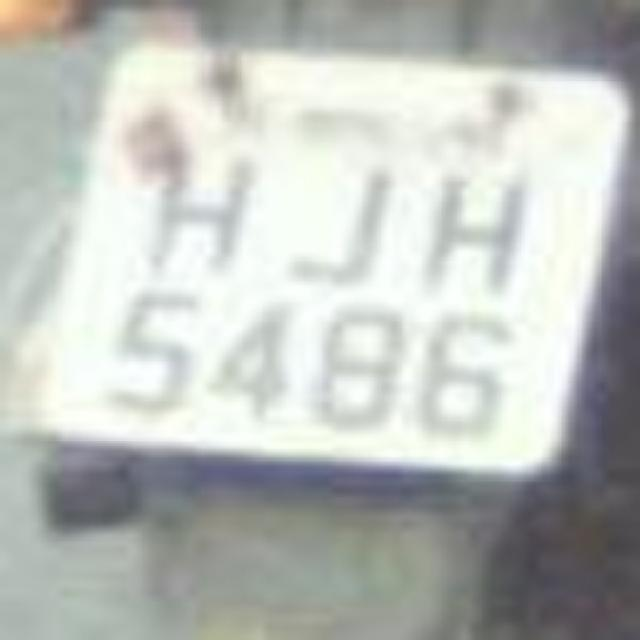0: (487, 444, 627, 640)
4: (192, 276, 320, 444)
5: (85, 288, 220, 428)
6: (409, 285, 536, 440)
8: (300, 276, 420, 436)
H: (400, 136, 528, 292)
J: (260, 144, 400, 291)
N: (124, 132, 264, 300)
